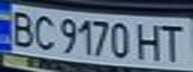0: (109, 19, 133, 60)
1: (75, 17, 93, 56)
7: (90, 17, 112, 56)
9: (54, 15, 78, 55)
B: (3, 8, 39, 48)
C: (30, 12, 57, 52)
H: (133, 20, 166, 62)
T: (154, 21, 190, 62)
